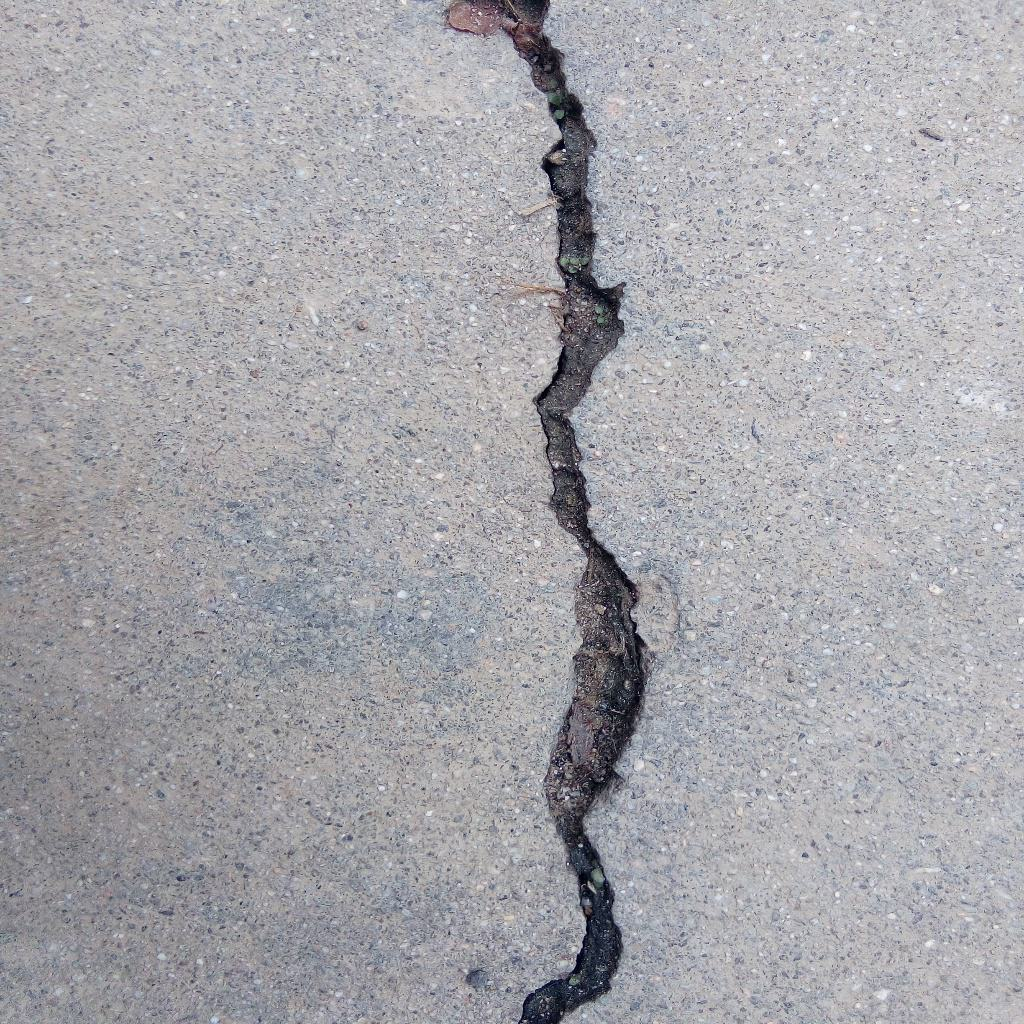Crack: (445, 1, 650, 1024)
